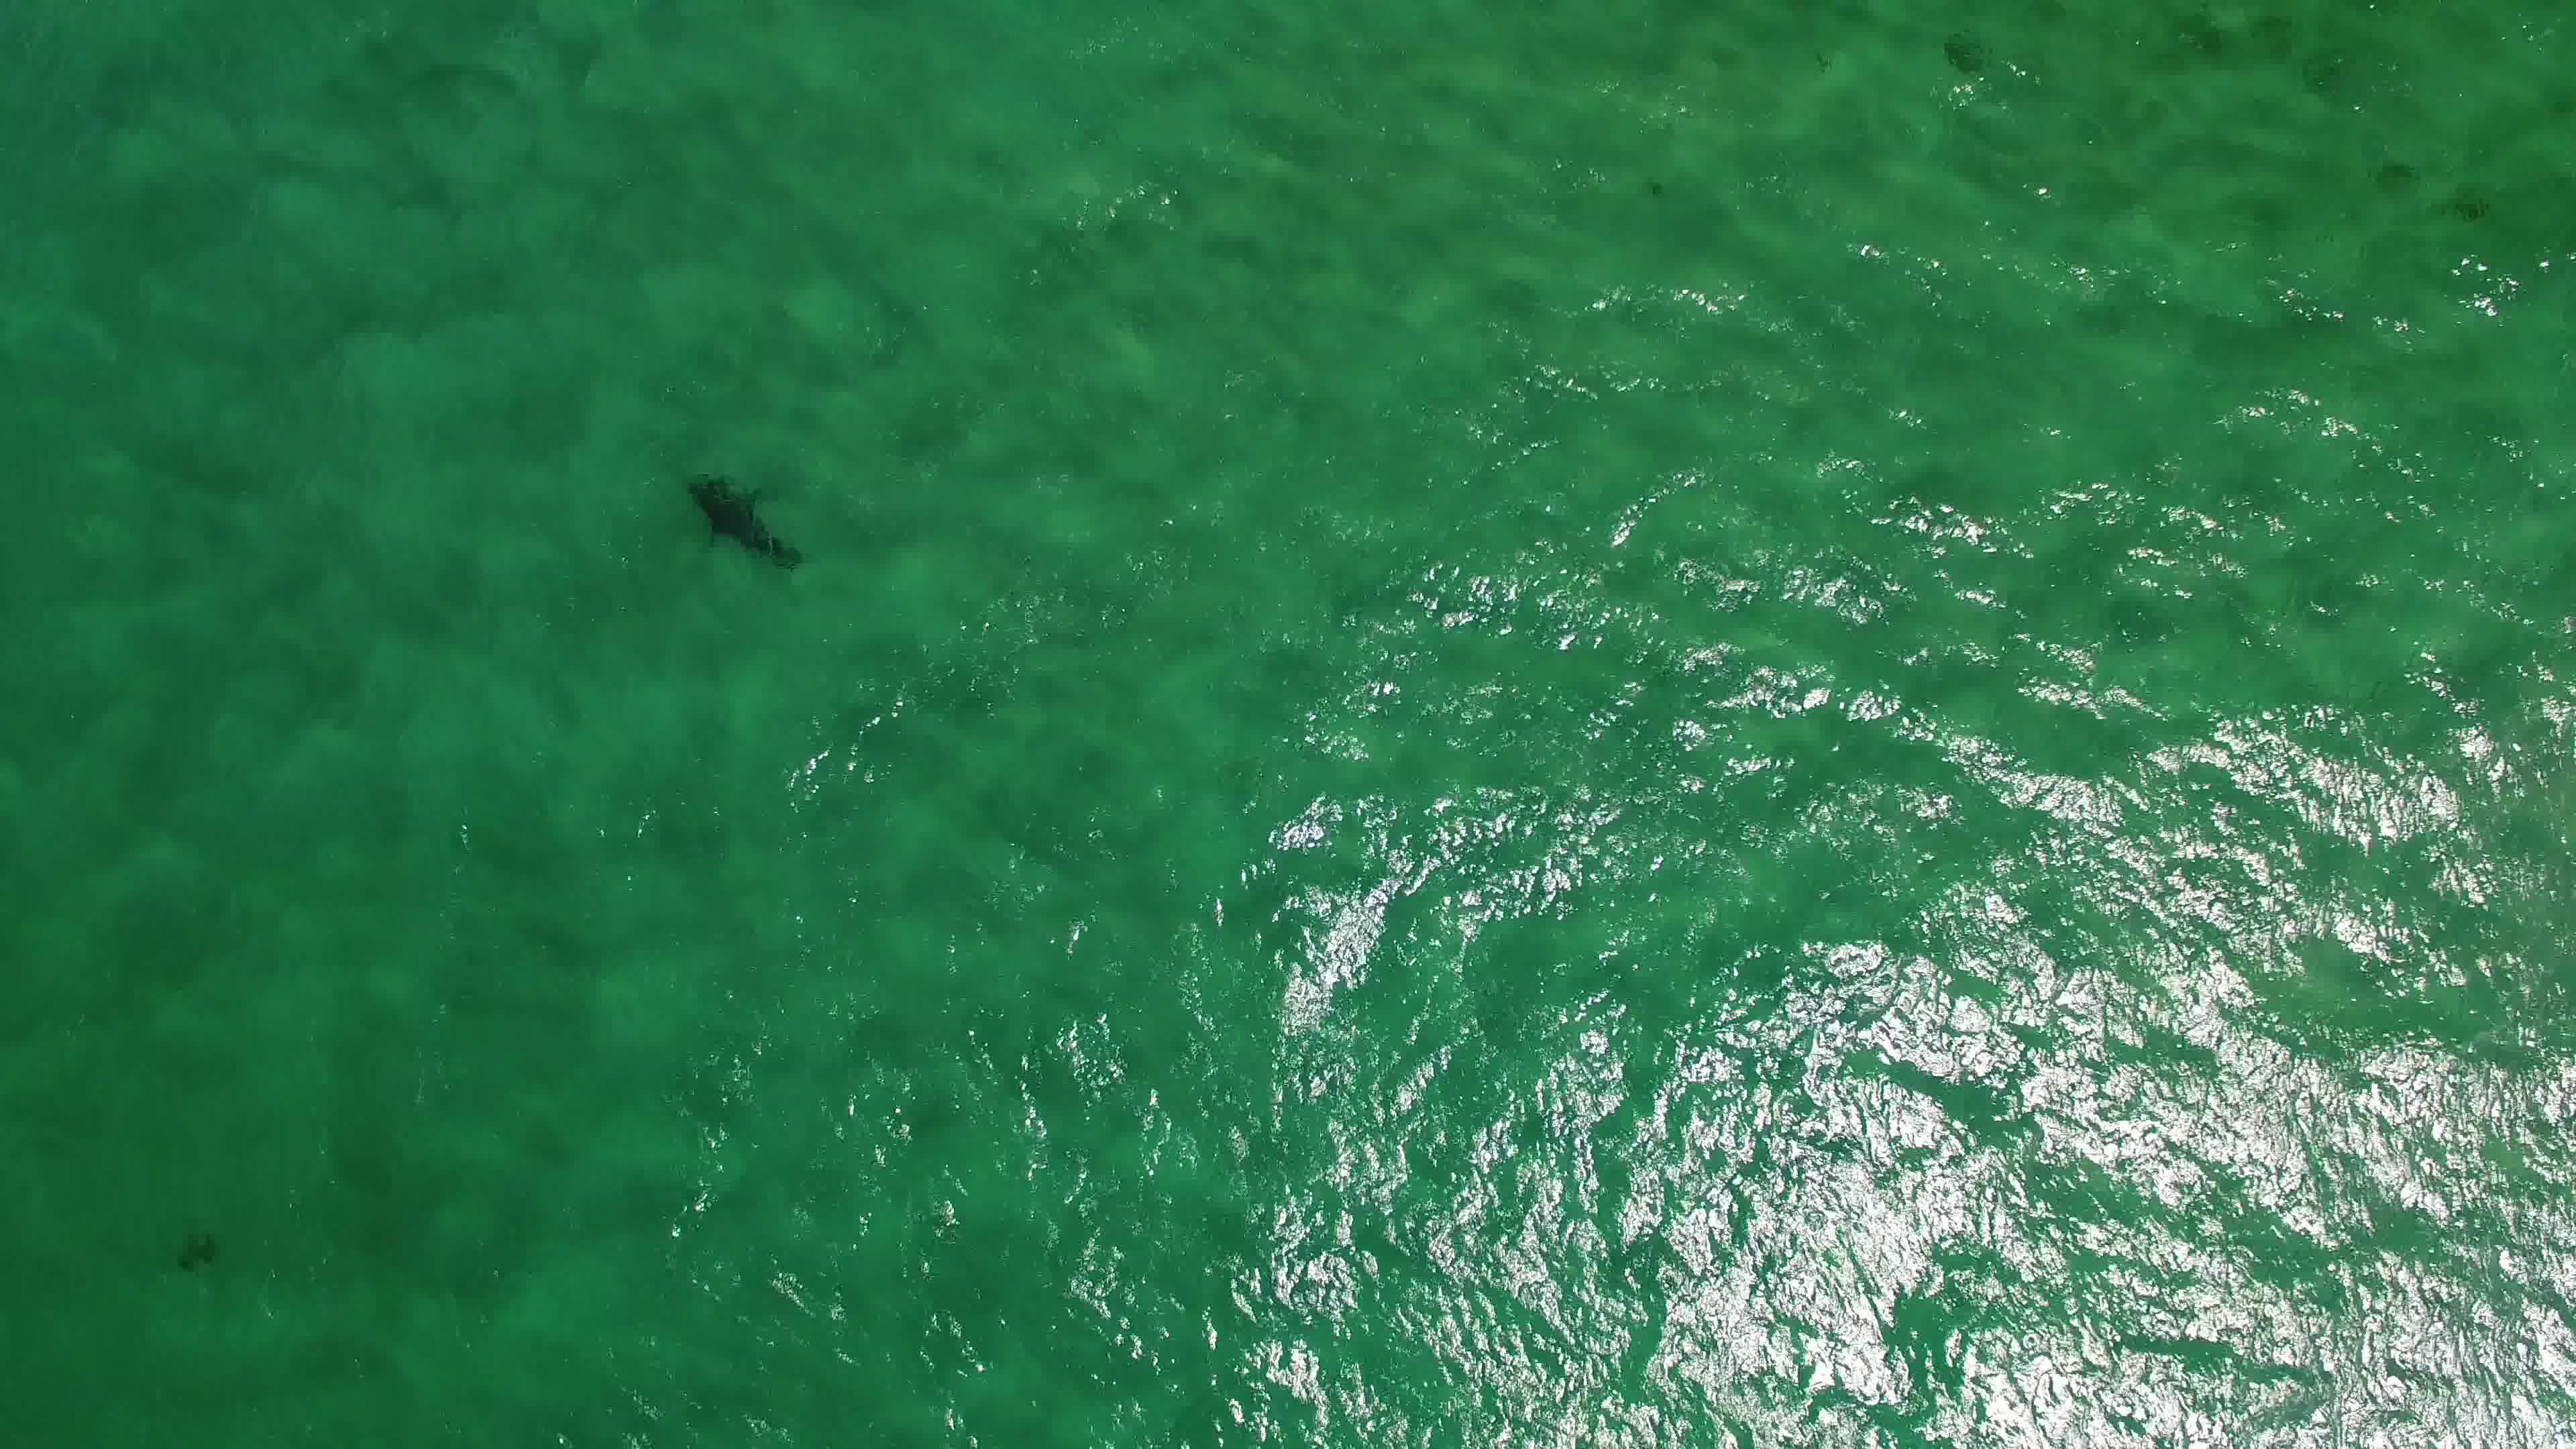shark: (678, 467, 812, 575)
